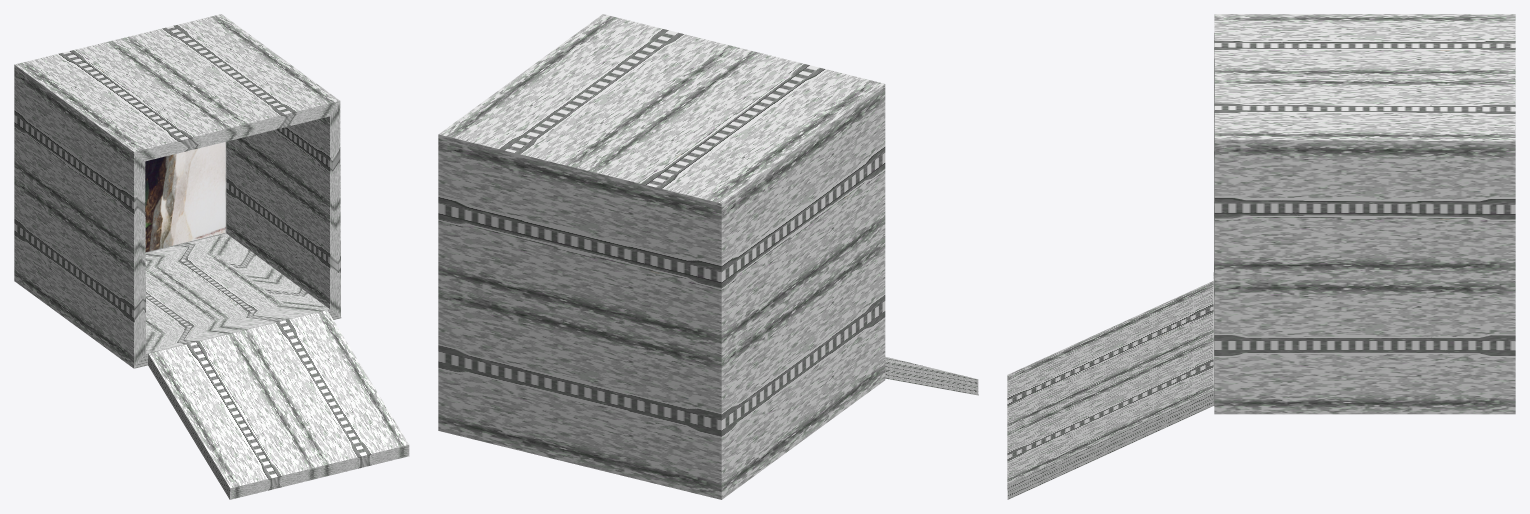
3 views of the same model, side by side, from view 1: azimuth 30°, elevation 25°; view 2: azimuth 150°, elevation 25°; view 3: azimuth 270°, elevation 25° (orthographic). The views are drawn at different scales.
Visible parts, largest first — view 1: Cube; view 2: Cube; view 3: Cube.
Boxes of the visible parts, box(x1,y1,x2,y2) form: Cube: box(14, 14, 409, 499); Cube: box(438, 14, 978, 499); Cube: box(1007, 14, 1515, 499).
Bounding box in the file's own units: 2 × 2.7 × 3.37.
2 materials, 2 textured.
